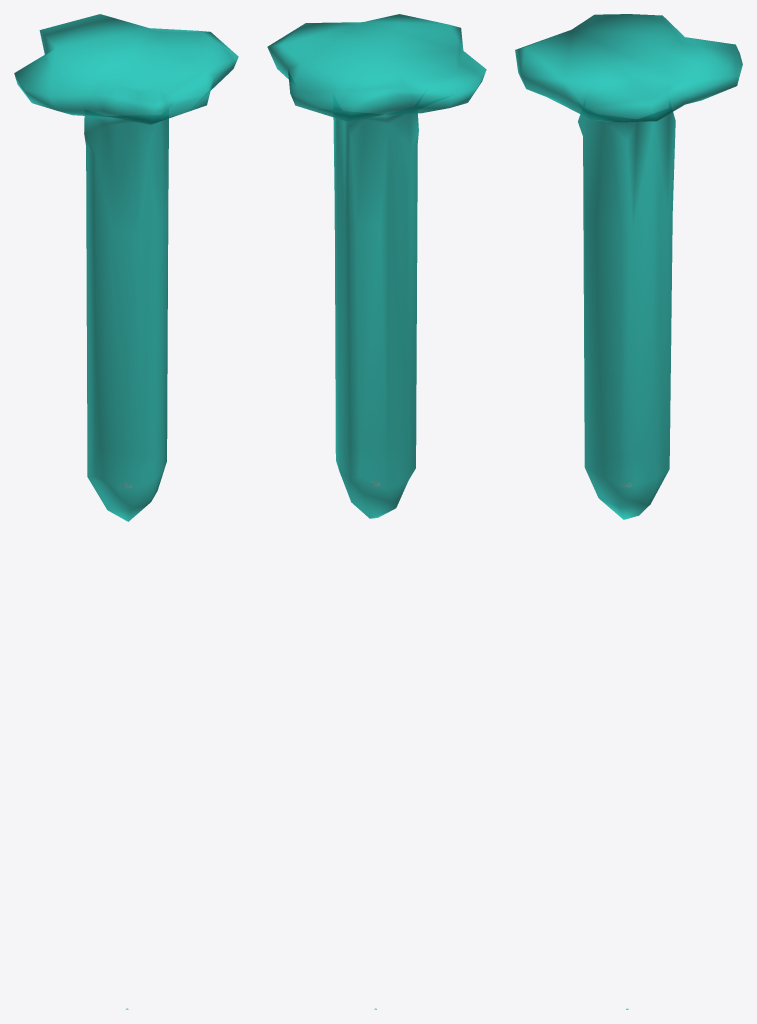
3 views of the same model, side by side, from view 1: azimuth 30°, elevation 25°; view 2: azimuth 150°, elevation 25°; view 3: azimuth 270°, elevation 25° (orthographic).
Parts seen in each view (by area): view 1: Liquid_Domain; view 2: Liquid_Domain; view 3: Liquid_Domain.
Part boxes in pixels (<box>): Liquid_Domain: <box>14,14,238,521</box>; Liquid_Domain: <box>267,14,486,518</box>; Liquid_Domain: <box>515,14,742,519</box>.
Bounding box in the file's own units: 149 × 683 × 148.
